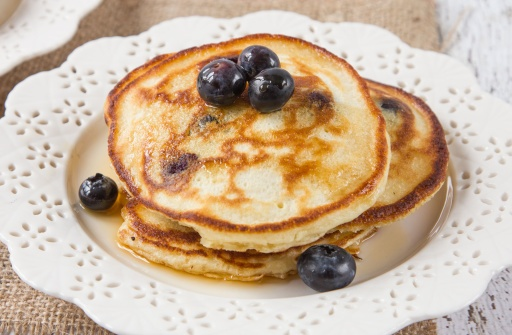background: (62, 17, 359, 152)
